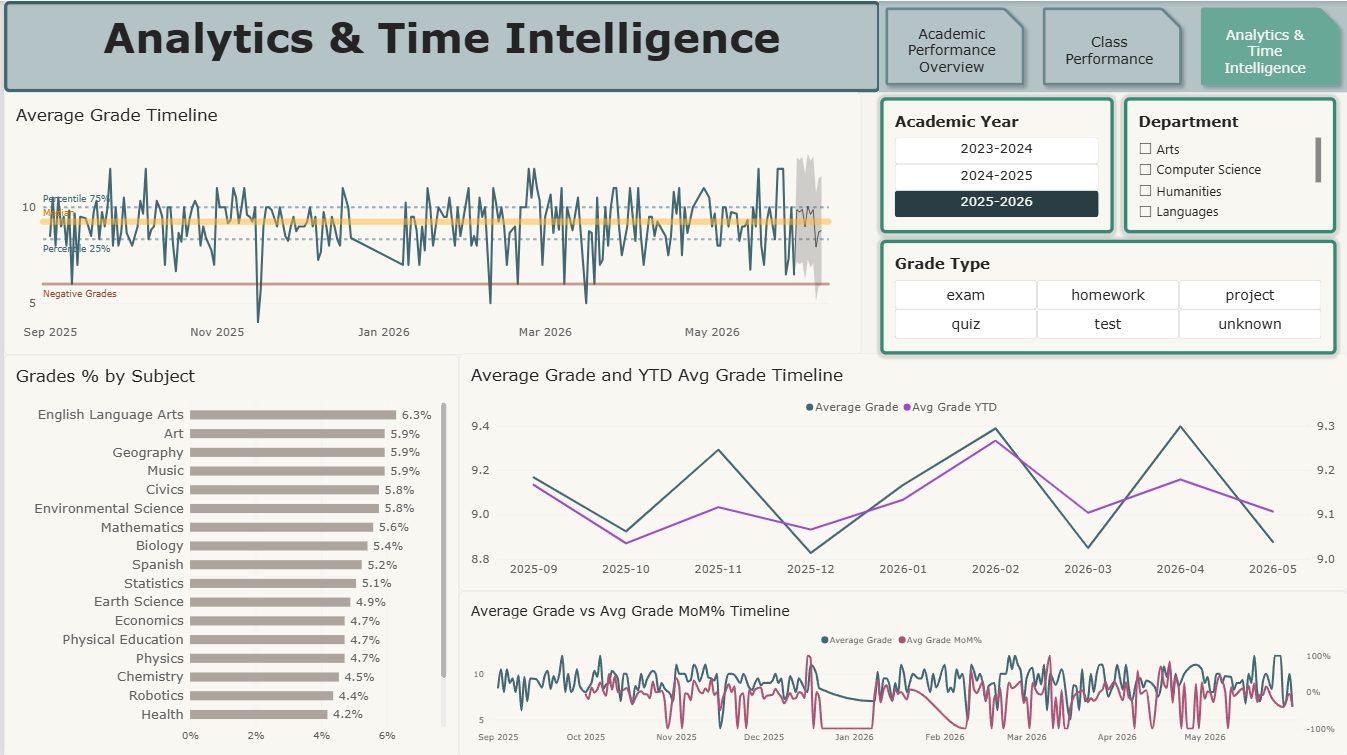

This screenshot's page, from the dashboard's own definition file:
{"tool":"powerbi","page":{"name":"Analytics & Time Intelligence","canvas":[1920,1080],"ordinal":4},"visuals":[{"type":"textbox","box":[0,0,1251.8,130.4],"z":0},{"type":"lineChart","title":"Average Grade Timeline","fields":{"Category":["Calendar.Date"],"Y":["Avg(grades.grade value)"]},"box":[0,130.4,1225,375],"z":1000},{"type":"barChart","title":"Grades % by Subject ","fields":{"Category":["subjects.subject_name"],"Y":["Divide(CountNonNull(grades.grade_id), ScopedEval(CountNonNull(grades.grade_id), []))"]},"box":[0,504.6,649.4,575],"z":2000},{"type":"lineChart","title":"Average Grade and YTD Avg Grade Timeline","fields":{"Category":["Calendar.Year-Month"],"Y":["Avg(grades.grade value)"],"Y2":["_Measures.Avg_grade YTD"]},"box":[650,503.6,1269.6,339.3],"z":3000},{"type":"lineChart","title":"Average Grade vs Avg Grade MoM% Timeline","fields":{"Category":["Calendar.Date"],"Y":["Avg(grades.grade value)"],"Y2":["_Measures.Avg_grade MoM%"]},"box":[650,842.9,1269.6,237.5],"z":4000},{"type":"advancedSlicerVisual","fields":{"Values":["grades.grade_type"]},"box":[1251.8,341.1,651.8,164.3],"z":5000},{"type":"advancedSlicerVisual","fields":{"Values":["periods.academic_year"]},"box":[1251.8,137.4,333.9,194.6],"z":6000},{"type":"listSlicer","fields":{"Values":["subjects.department_hint"]},"box":[1600,137.4,303.6,194.6],"z":7000},{"type":"pageNavigator","box":[1250,0,669.6,130.4],"z":8000}]}

Visuals, with their boxes in screenshot pixels (x1, y1, x2, y2), scaled from the page's 1920x1080 canvas onto the 1347x755 screenshot:
textbox: detection(0, 0, 878, 91)
"Average Grade Timeline" lineChart: detection(0, 91, 859, 353)
"Grades % by Subject " barChart: detection(0, 353, 456, 754)
"Average Grade and YTD Avg Grade Timeline" lineChart: detection(456, 352, 1346, 589)
"Average Grade vs Avg Grade MoM% Timeline" lineChart: detection(456, 589, 1346, 754)
advancedSlicerVisual - grades.grade_type: detection(878, 238, 1335, 353)
advancedSlicerVisual - periods.academic_year: detection(878, 96, 1112, 232)
listSlicer - subjects.department_hint: detection(1122, 96, 1335, 232)
pageNavigator: detection(877, 0, 1346, 91)
